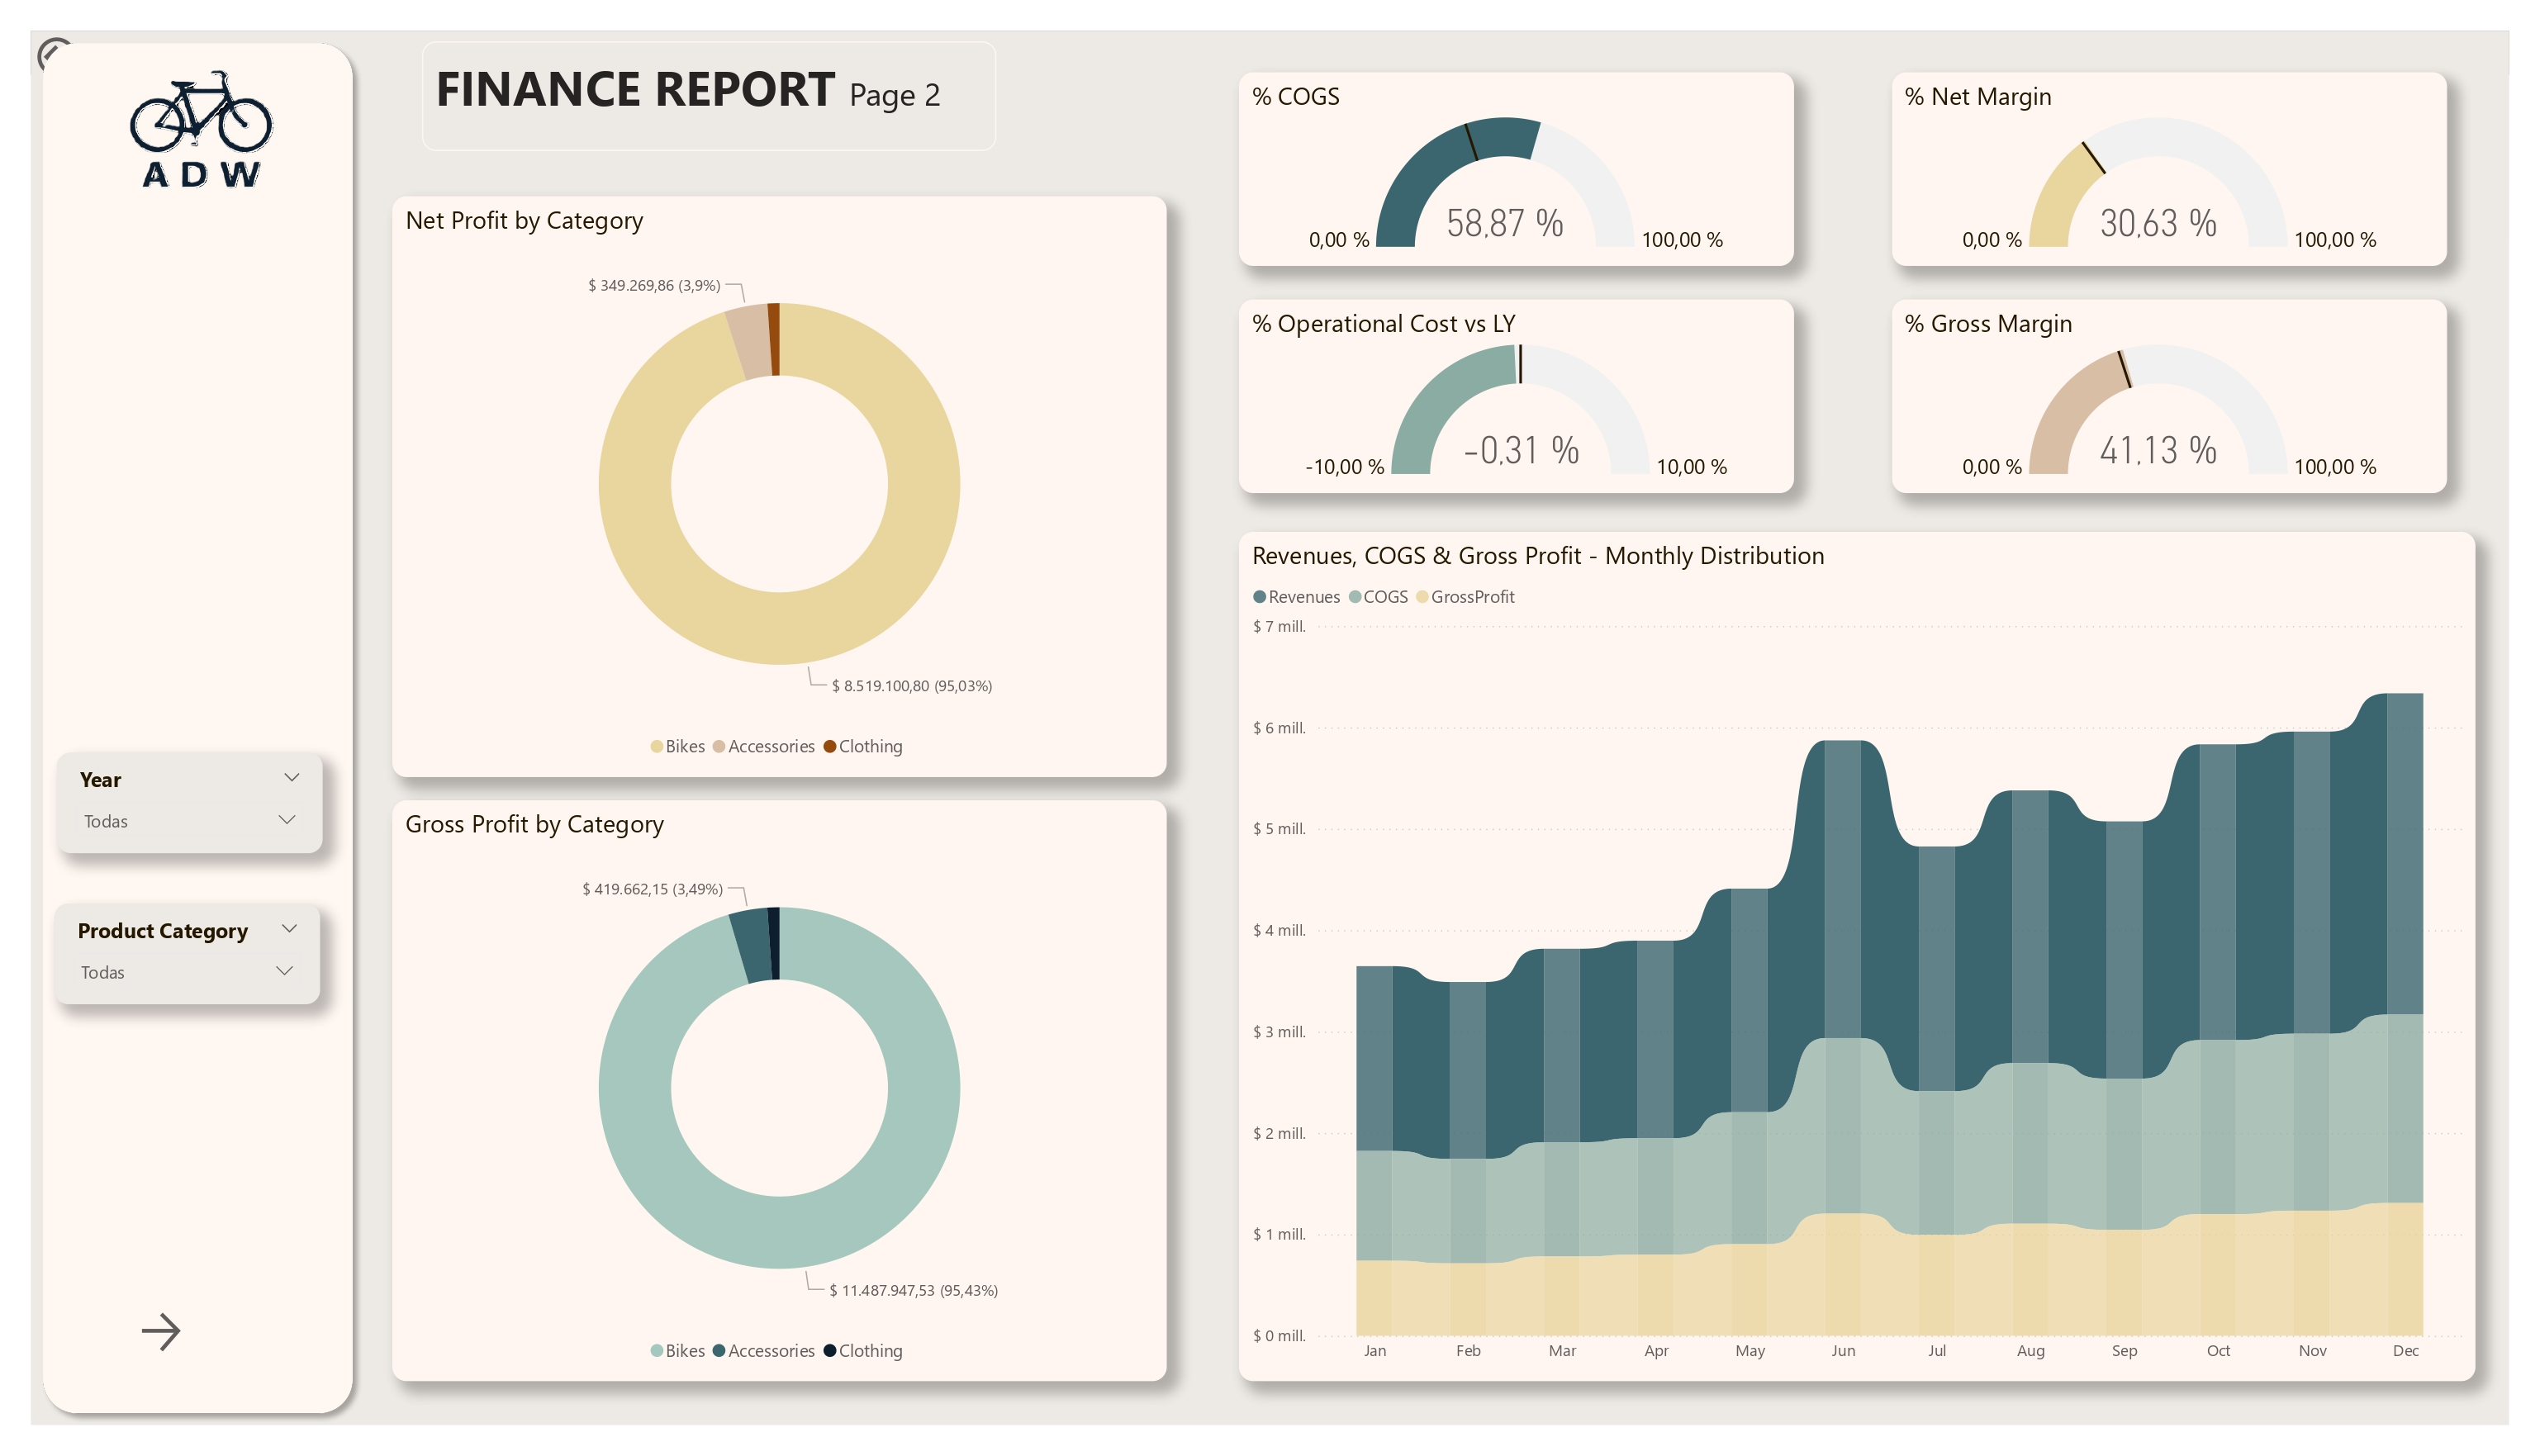

The dashboard page shown, as its layout file describes it:
{"tool":"powerbi","page":{"name":"Finance - Page2","canvas":[1920,1080],"ordinal":2},"visuals":[{"type":"actionButton","box":[0,0,100,40],"z":0},{"type":"shape","box":[0,0,258,1080],"z":1000},{"type":"image","box":[50,0,160,150],"z":2000},{"type":"slicer","fields":{"Values":["DimDate.CalendarYear"]},"box":[20,558.6,205.7,78.6],"z":3000},{"type":"slicer","fields":{"Values":["DimProductCategory.EnglishProductCategoryName"]},"box":[18,676,206,78],"z":4000},{"type":"gauge","title":"% COGS","fields":{"Y":["Measure.%COGS"]},"box":[936,32,430,150],"z":5000},{"type":"gauge","title":"% Operational Cost vs LY","fields":{"Y":["Measure.%OperationalCostRatio Variation"]},"box":[936,208,430,150],"z":6000},{"type":"ribbonChart","title":"Revenues, COGS & Gross Profit - Monthly Distribution","fields":{"Category":["DimDate.MonthShortName"],"Y":["Measure.Revenues","Measure.COGS","Measure.GrossProfit"]},"box":[936,388,958,658],"z":7000},{"type":"gauge","title":"% Net Margin","fields":{"Y":["Measure.%NetMargin"]},"box":[1442,32,430,150],"z":8000},{"type":"gauge","title":"% Gross Margin","fields":{"Y":["Measure.%GrossMargin"]},"box":[1442,208,430,150],"z":9000},{"type":"donutChart","title":"Gross Profit by Category","fields":{"Category":["DimProductCategory.EnglishProductCategoryName"],"Y":["Measure.GrossProfit"]},"box":[280,596,600,450],"z":10000},{"type":"donutChart","title":"Net Profit by Category","fields":{"Category":["DimProductCategory.EnglishProductCategoryName"],"Y":["Measure.NetProfit"]},"box":[280,128,600,450],"z":11000},{"type":"textbox","box":[303.3,8.3,445,85],"z":12000},{"type":"actionButton","box":[80,988,100,40],"z":12001}]}

Visuals, with their boxes on the page's 1920x1080 design canvas (x1, y1, x2, y2). These are canvas units, not pixel positions in the 2540x1456 screenshot, which may show the page scaled, cropped or inside an application window:
actionButton: <region>0, 0, 100, 40</region>
shape: <region>0, 0, 258, 1080</region>
image: <region>50, 0, 210, 150</region>
slicer - DimDate.CalendarYear: <region>20, 559, 226, 637</region>
slicer - DimProductCategory.EnglishProductCategoryName: <region>18, 676, 224, 754</region>
"% COGS" gauge: <region>936, 32, 1366, 182</region>
"% Operational Cost vs LY" gauge: <region>936, 208, 1366, 358</region>
"Revenues, COGS & Gross Profit - Monthly Distribution" ribbonChart: <region>936, 388, 1894, 1046</region>
"% Net Margin" gauge: <region>1442, 32, 1872, 182</region>
"% Gross Margin" gauge: <region>1442, 208, 1872, 358</region>
"Gross Profit by Category" donutChart: <region>280, 596, 880, 1046</region>
"Net Profit by Category" donutChart: <region>280, 128, 880, 578</region>
textbox: <region>303, 8, 748, 93</region>
actionButton: <region>80, 988, 180, 1028</region>
